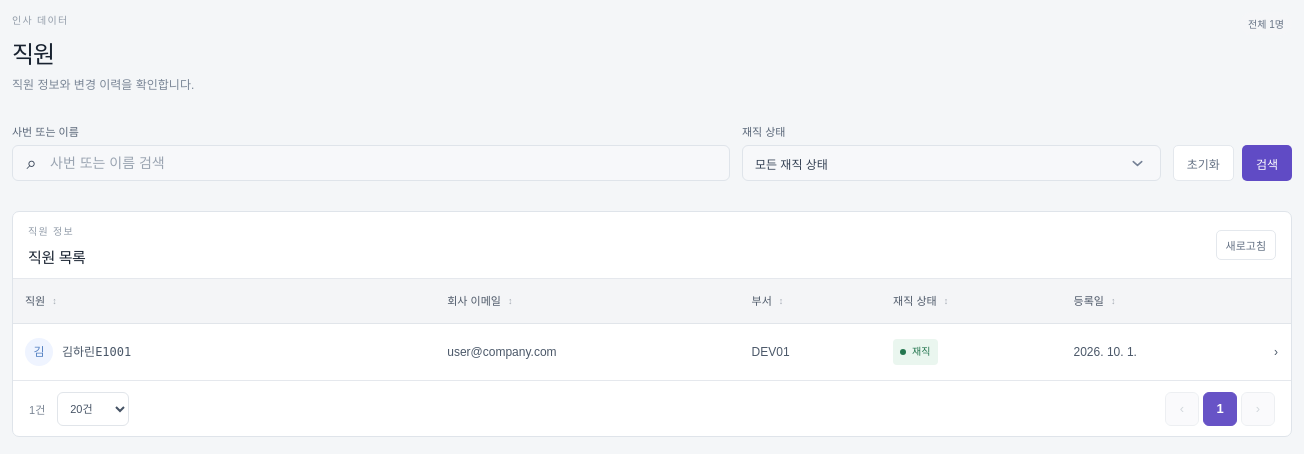
Test: employee list and detail routes › resets employee search and status to the unfiltered first page
Expected: the row named "김하린 E1001" is shown, [13, 324, 1291, 380]
Type "E1001" into the field named "사번 또는 이름 검색". click: (384, 163)
box: [48, 155, 719, 171]
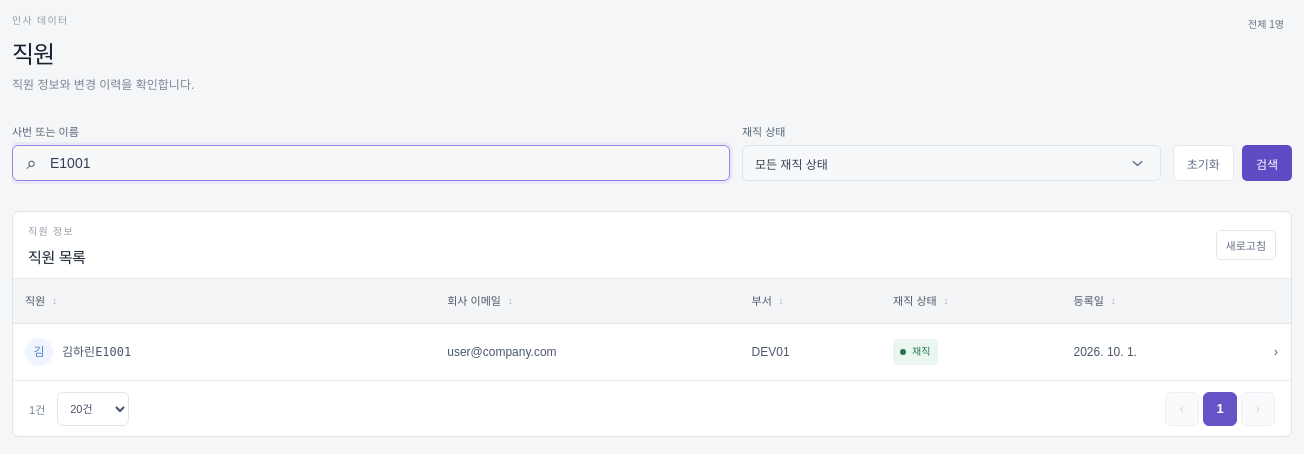
Click the dropdown named "재직 상태 필터". click: click(791, 164)
box: [742, 145, 1161, 181]
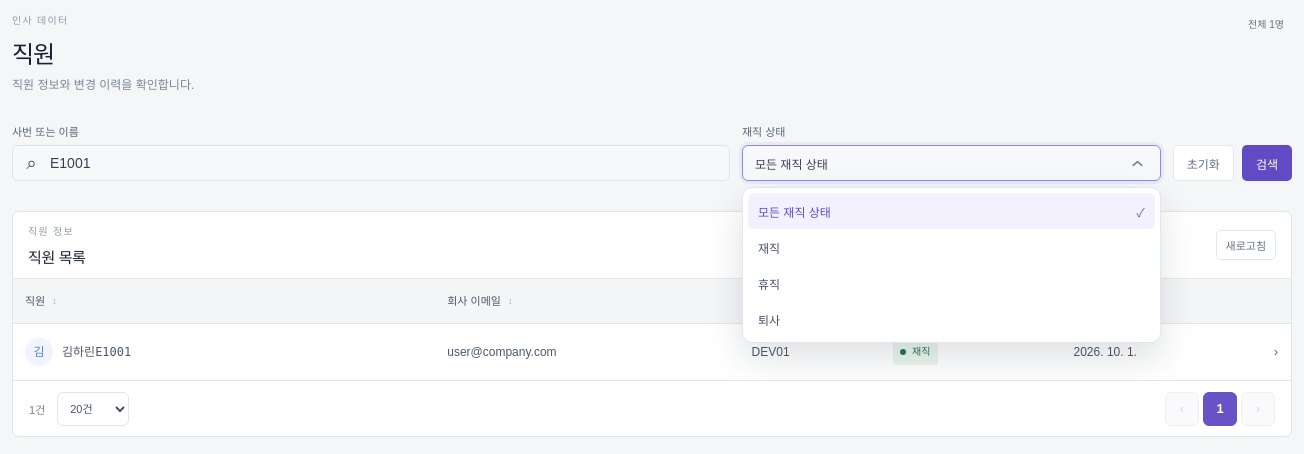
Click the option "휴직". click: click(769, 284)
box: [748, 265, 1155, 301]
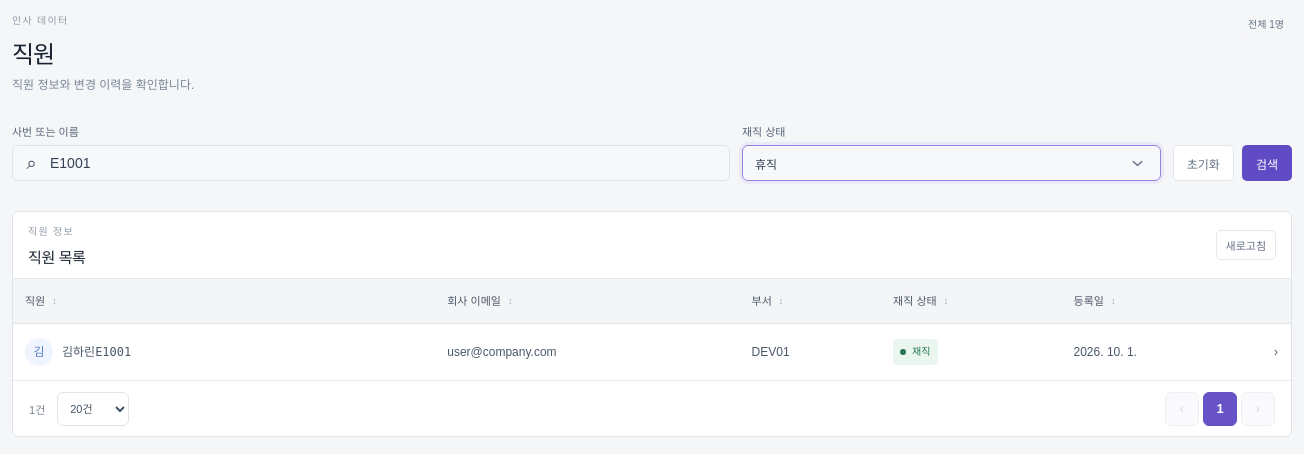
Click the button "검색". click: click(1267, 163)
box: [1242, 145, 1292, 181]
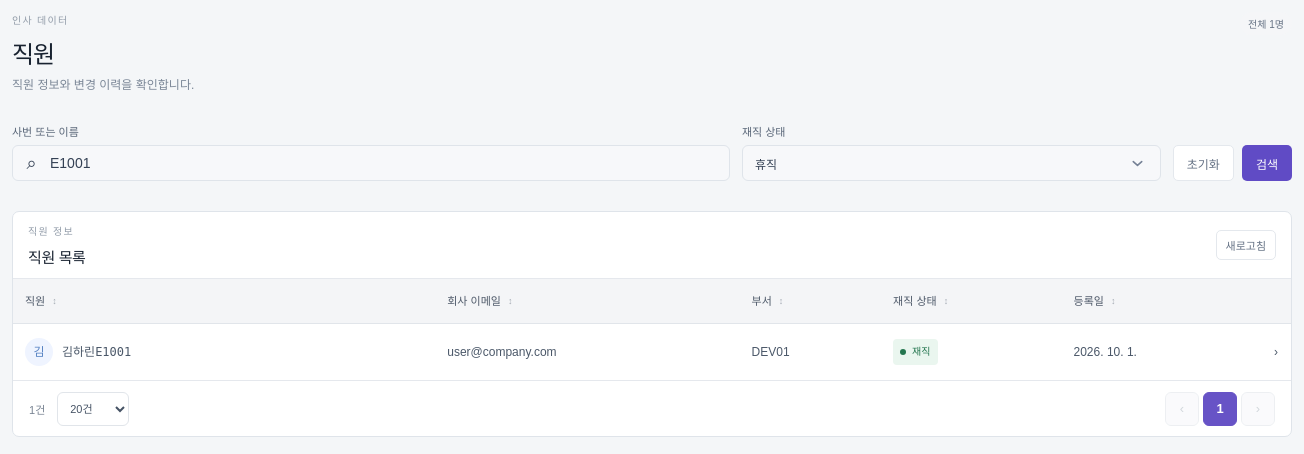
Click the button "초기화". click: click(1203, 163)
box: [1173, 145, 1234, 181]
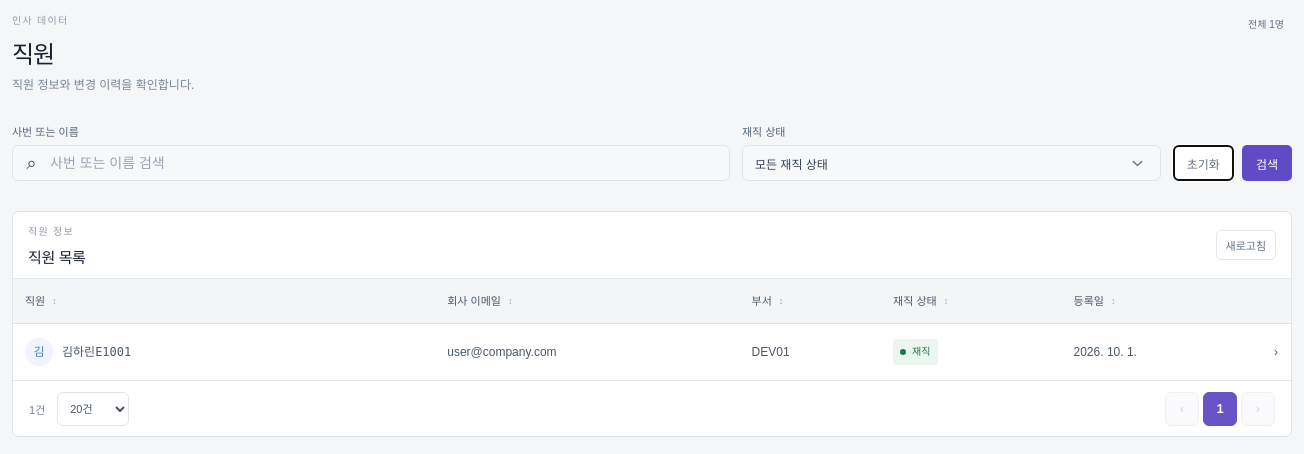
Expected: the field named "사번 또는 이름 검색" is empty, [48, 155, 719, 171]
Expected: the dropdown named "재직 상태 필터" reads "모든 재직 상태", [742, 145, 1161, 181]
